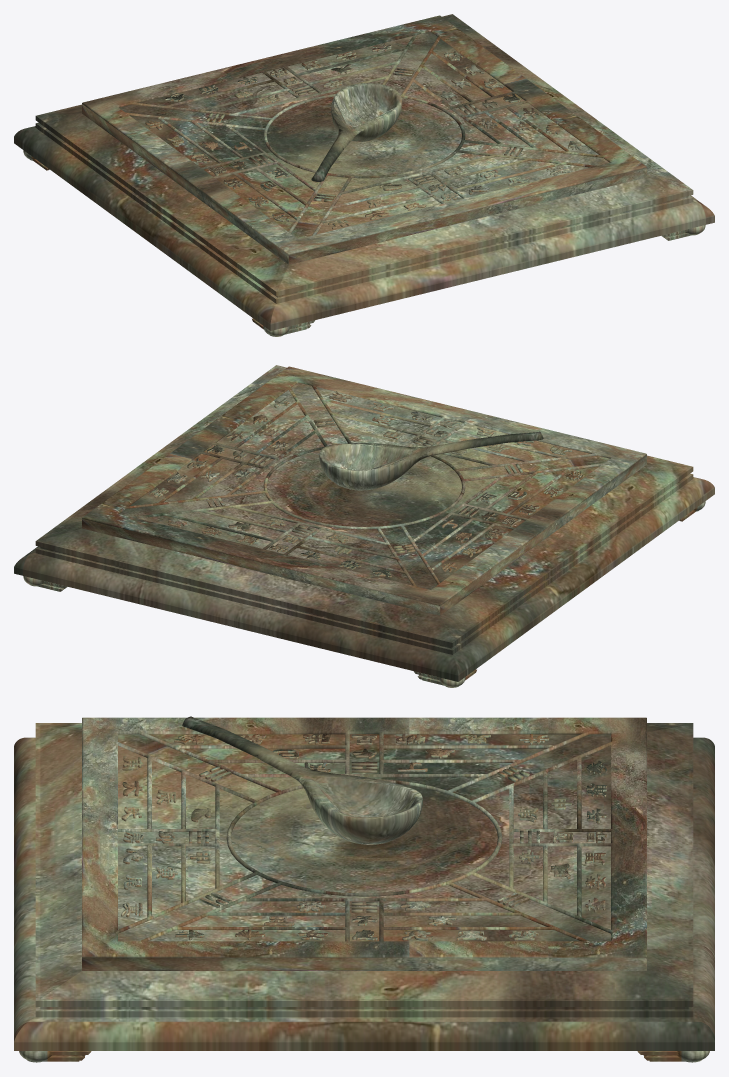
The picture shows the model from 3 angles, top to bottom: view 1: azimuth 30°, elevation 25°; view 2: azimuth 150°, elevation 25°; view 3: azimuth 270°, elevation 25°; orthographic projection. The views are drawn at different scales.
Parts seen in each view (by area): view 1: Plate_Compass_Han_Dynasty1, Group1, Spoon_Lodestone1, Group2; view 2: Plate_Compass_Han_Dynasty1, Group1, Spoon_Lodestone1, Group2; view 3: Plate_Compass_Han_Dynasty1, Group1, Spoon_Lodestone1, Group2.
Part boxes in pixels (bbox=[...]): Plate_Compass_Han_Dynasty1: bbox=[82, 15, 646, 264]; Group1: bbox=[14, 14, 714, 330]; Spoon_Lodestone1: bbox=[311, 83, 402, 181]; Group2: bbox=[23, 150, 705, 336]; Plate_Compass_Han_Dynasty1: bbox=[82, 366, 646, 615]; Group1: bbox=[14, 365, 714, 681]; Spoon_Lodestone1: bbox=[319, 431, 543, 490]; Group2: bbox=[23, 501, 705, 687]; Plate_Compass_Han_Dynasty1: bbox=[82, 717, 646, 970]; Group1: bbox=[14, 723, 714, 1050]; Spoon_Lodestone1: bbox=[182, 716, 422, 844]; Group2: bbox=[19, 1051, 709, 1062].
Size of the model in its own units: 7225 by 1454 by 7225.
4 materials, 4 textured.
